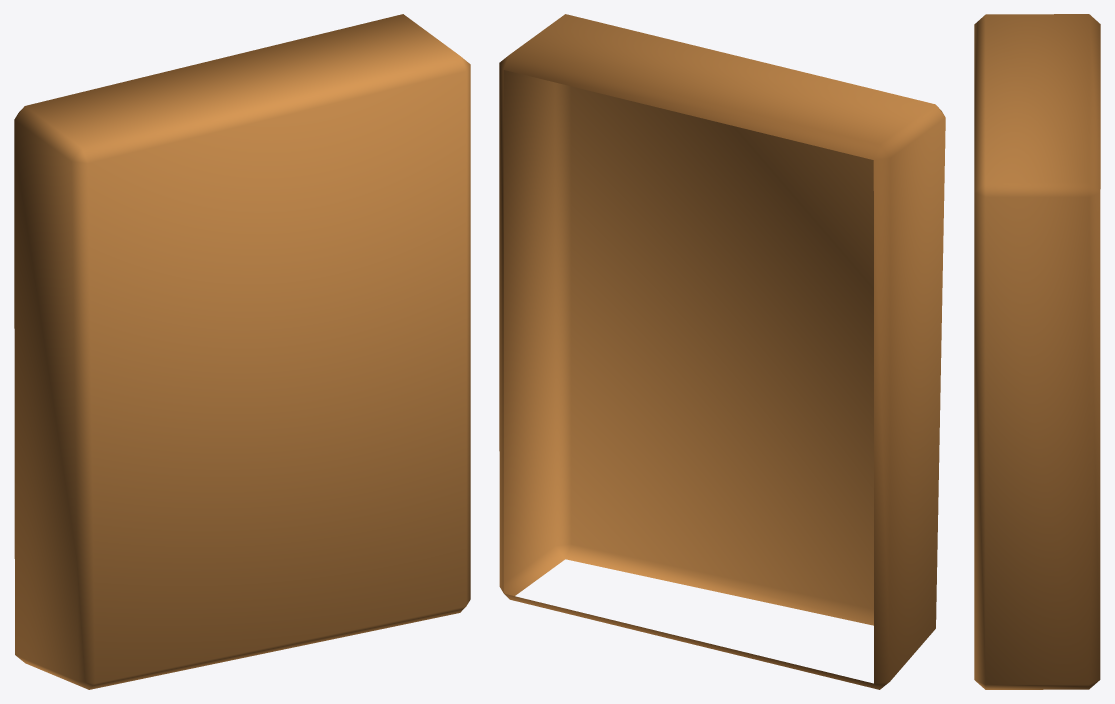
Rendered from block_t1_lo.glb.
3 renders of one model, left to right at view 1: azimuth 30°, elevation 25°; view 2: azimuth 150°, elevation 25°; view 3: azimuth 270°, elevation 25°, orthographic. The views are drawn at different scales.
Visible parts, largest first — view 1: block_t1_lo; view 2: block_t1_lo; view 3: block_t1_lo.
Boxes of the visible parts, x1,y1,x2,y2 form: block_t1_lo: [14, 14, 470, 689]; block_t1_lo: [499, 14, 945, 689]; block_t1_lo: [974, 14, 1100, 689].
Size of the model in its own units: 1.5 by 2 by 0.4511.
